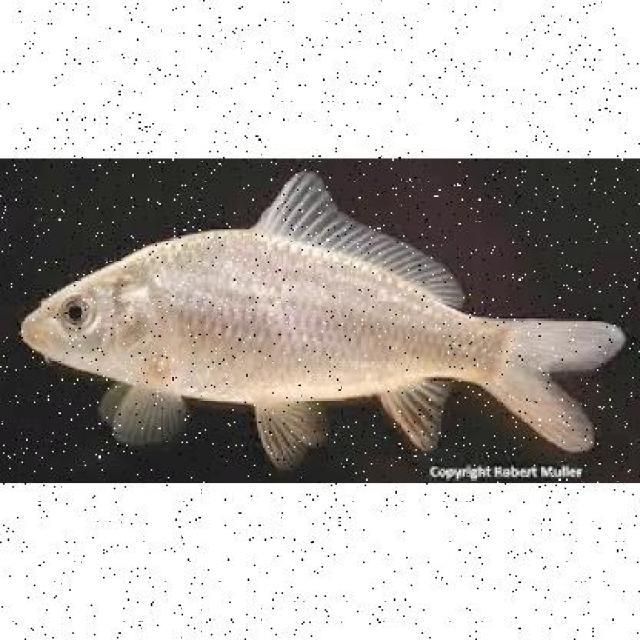ikan-mas: (22, 178, 602, 450)
